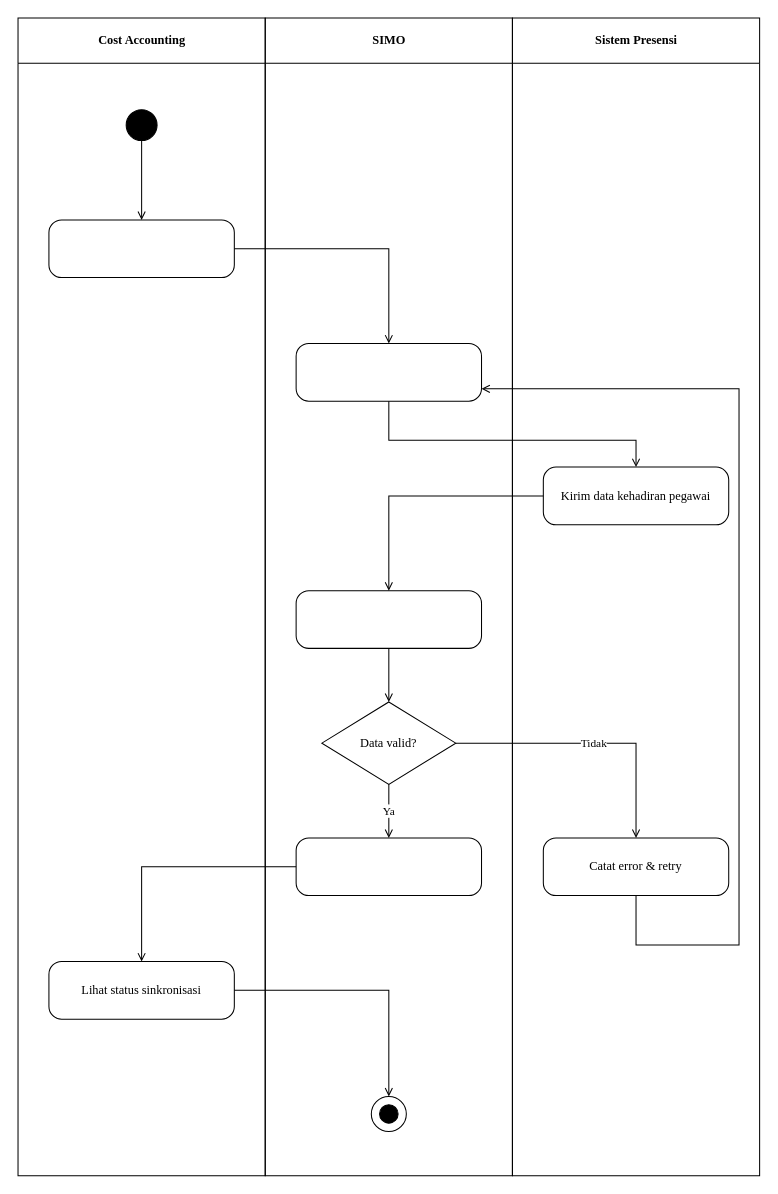
Image size: 778x1194. Some labels were removed from this diagram. The centre of each missing label's shape, as x and y in pixels:
"Jalankan sinkronisasi presensi" belongs at pixel 141 248.
"Kirim permintaan data kehadiran" belongs at pixel 388 371.
"Simpan data presensi" belongs at pixel 388 866.
"Validasi & transformasi data" belongs at pixel 388 619.
